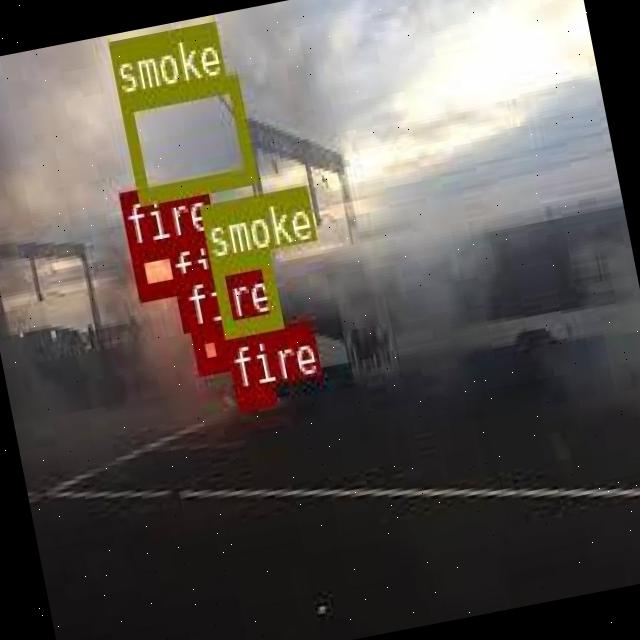fire: (126, 236, 188, 298), (189, 324, 227, 372), (176, 290, 207, 328), (234, 384, 276, 408)
smoke: (117, 72, 254, 202), (210, 248, 282, 336)
